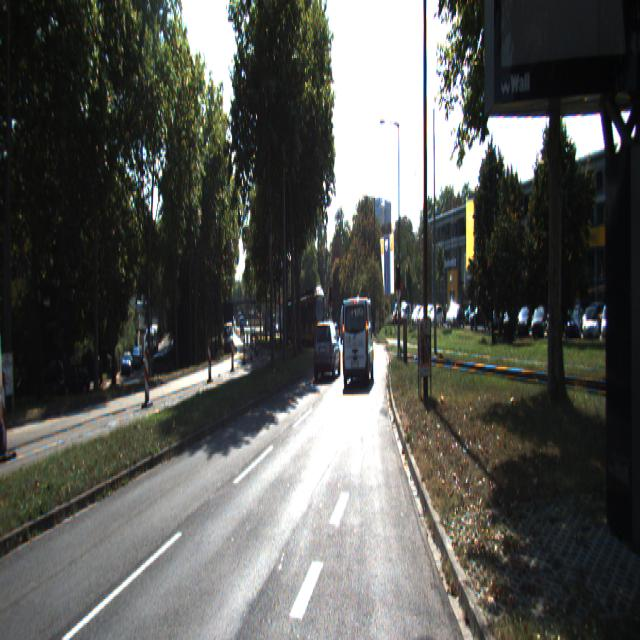Car: (341, 290, 373, 388), (291, 286, 326, 344), (312, 320, 341, 381)
